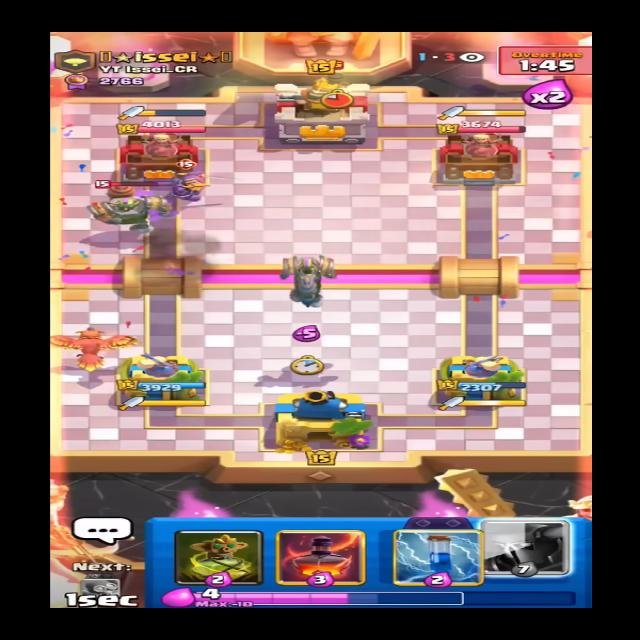evo-knight: (155, 158, 230, 208)
goblin-machine: (87, 177, 170, 233)
ram-rider: (313, 57, 352, 93)
